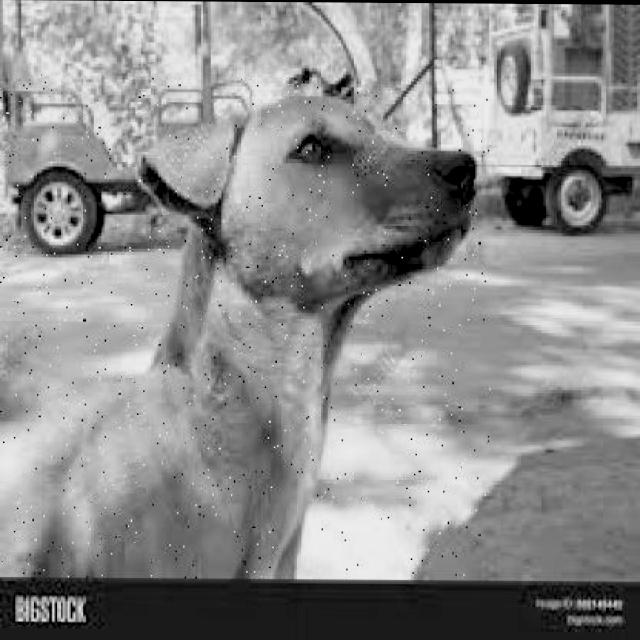Dog: (0, 73, 492, 582)
